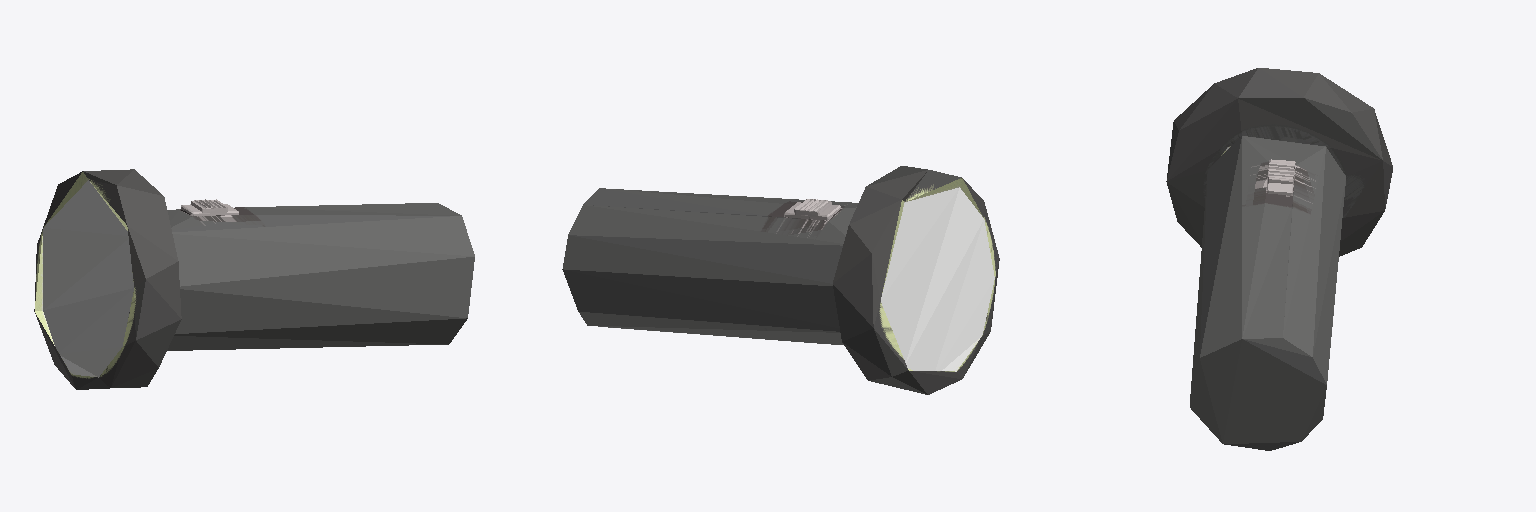
3 views of the same model, side by side, from view 1: azimuth 30°, elevation 25°; view 2: azimuth 150°, elevation 25°; view 3: azimuth 270°, elevation 25° (orthographic).
Visible parts, largest first — view 1: 292228_23_06_11_15_36_58_2, 292228_23_06_11_15_36_58_1; view 2: 292228_23_06_11_15_36_58_2, 292228_23_06_11_15_36_58_1; view 3: 292228_23_06_11_15_36_58_2, 292228_23_06_11_15_36_58_1.
Boxes of the visible parts, x1,y1,x2,y2 form: 292228_23_06_11_15_36_58_2: [34, 169, 474, 389]; 292228_23_06_11_15_36_58_1: [180, 199, 238, 215]; 292228_23_06_11_15_36_58_2: [562, 166, 999, 394]; 292228_23_06_11_15_36_58_1: [784, 199, 841, 220]; 292228_23_06_11_15_36_58_2: [1166, 68, 1392, 450]; 292228_23_06_11_15_36_58_1: [1267, 159, 1295, 195].
Bounding box in the file's own units: 3.37 × 1.98 × 1.77.
2 materials, 2 textured.